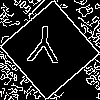Y: (25, 25, 62, 73)
